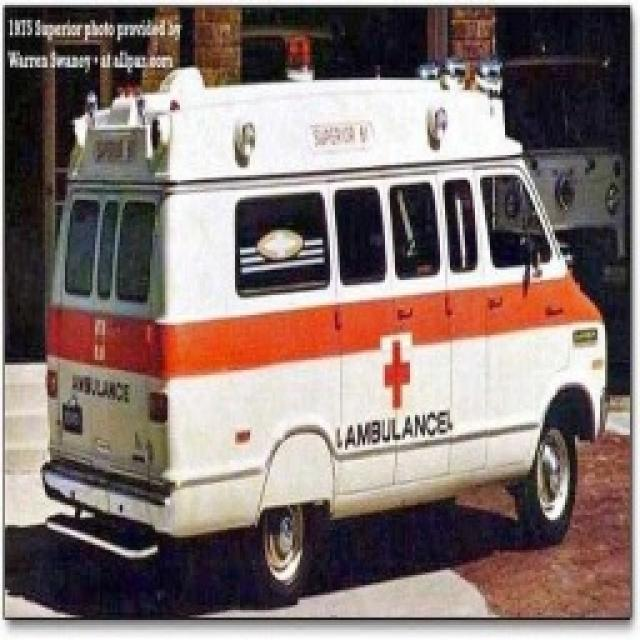emergency-vehicle: (47, 32, 620, 586)
